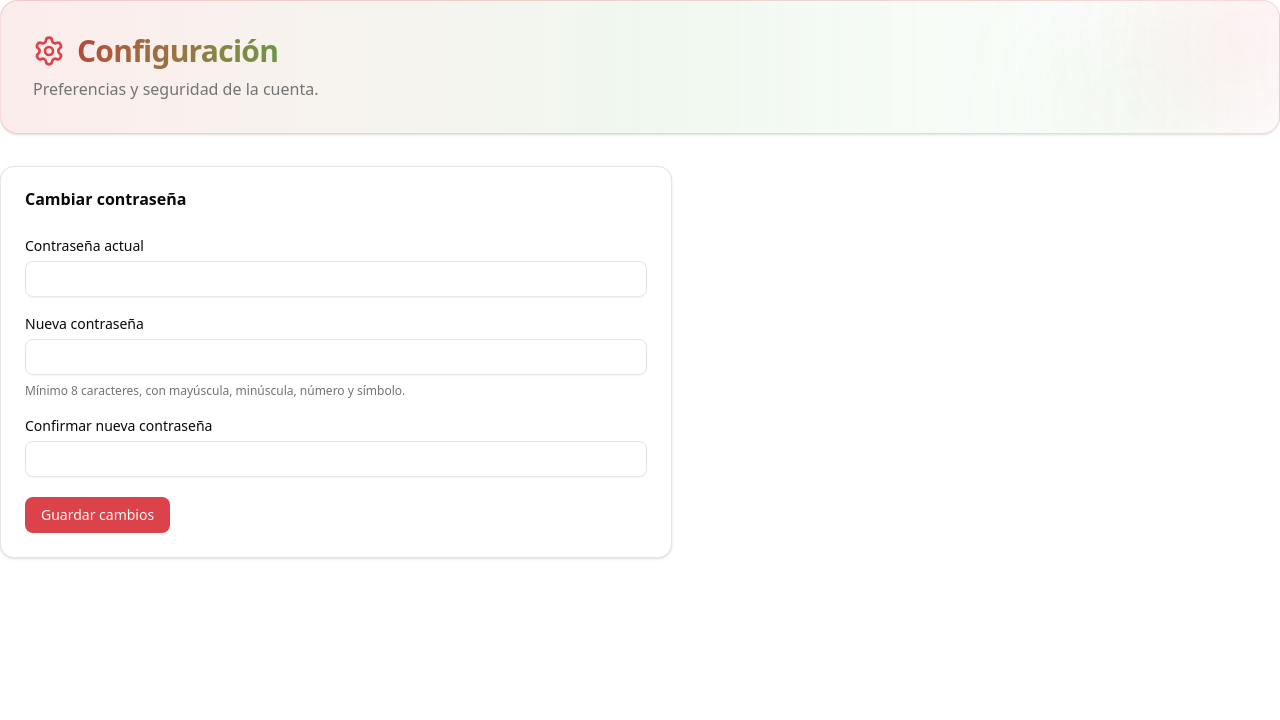
Test case: Configuracion - Cambio de contraseña › debe mostrar error cuando las contraseñas no coinciden
Type "Current123!" into the password field labelled "Contraseña actual" at (336, 279), box [25, 261, 647, 297]
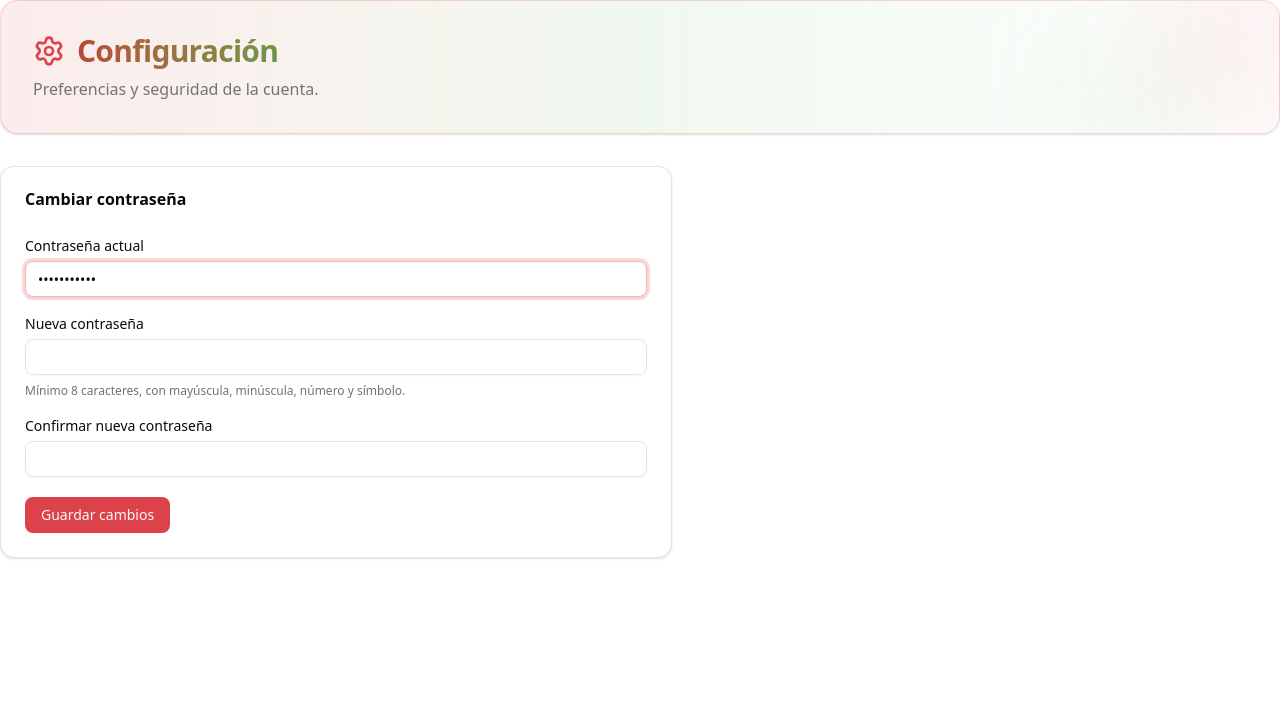
Type "NewPass123!" into the password field labelled "Nueva contraseña" at (336, 357), box [25, 339, 647, 375]
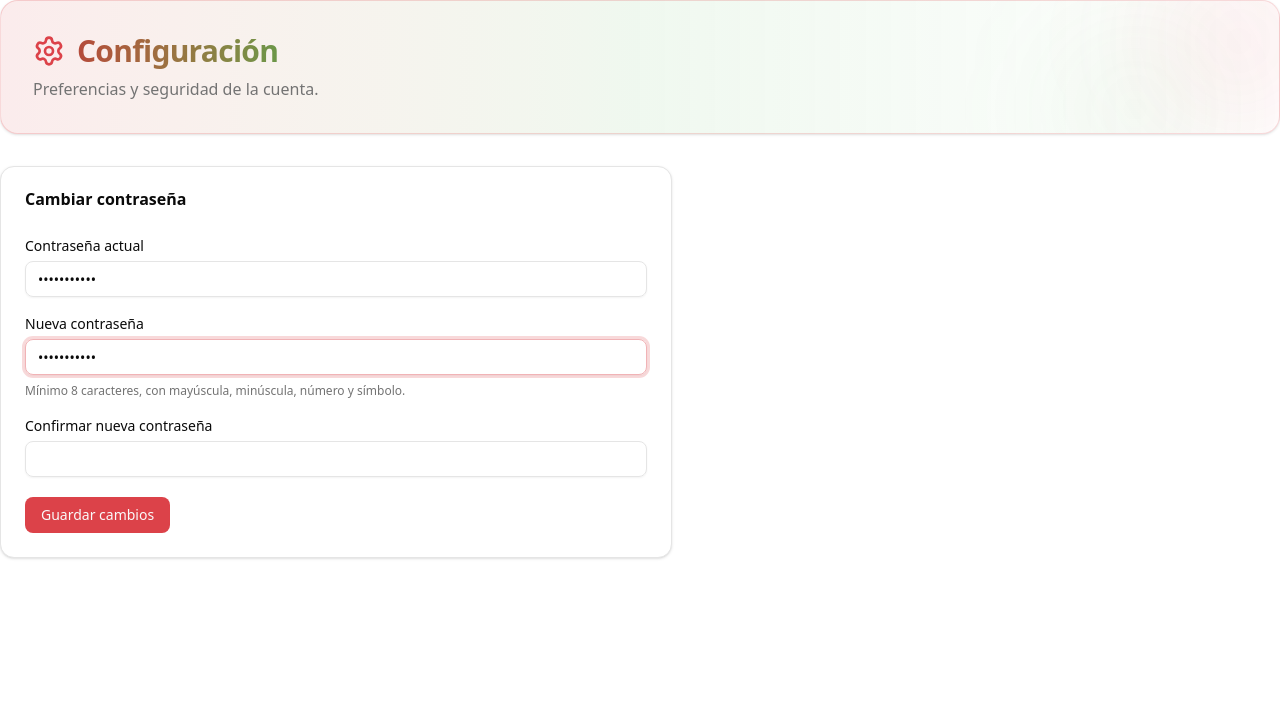
Type "Different123!" into the password field labelled "Confirmar nueva contraseña" at (336, 459), box [25, 441, 647, 477]
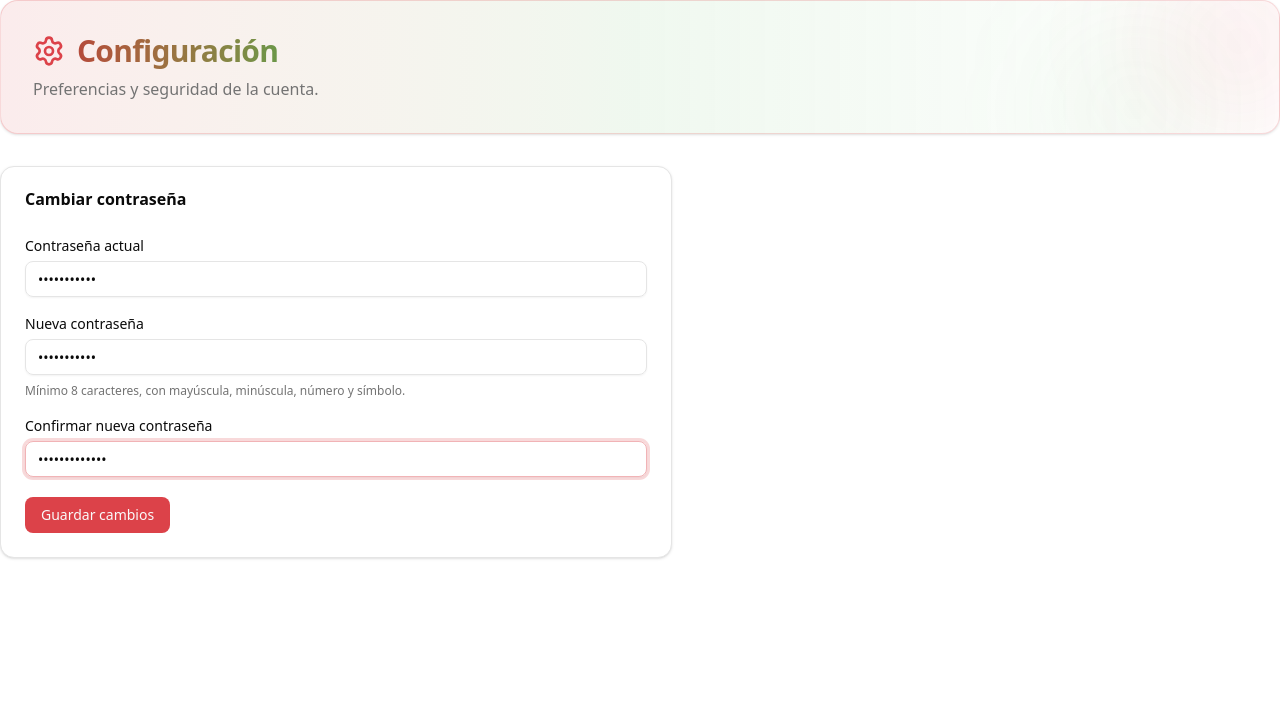
Click the button "Guardar cambios" at (98, 515), box [25, 497, 170, 533]
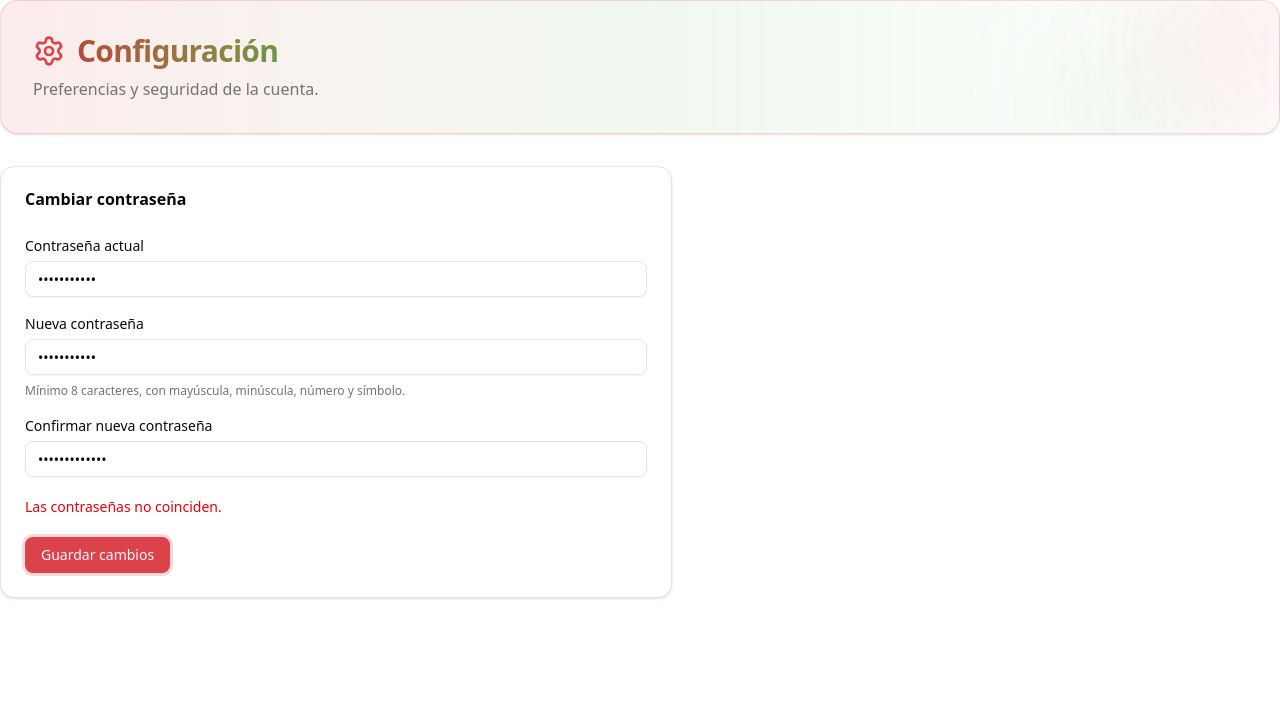
Expected: the text "Las contraseñas no coinciden." is shown, [25, 497, 222, 516]
